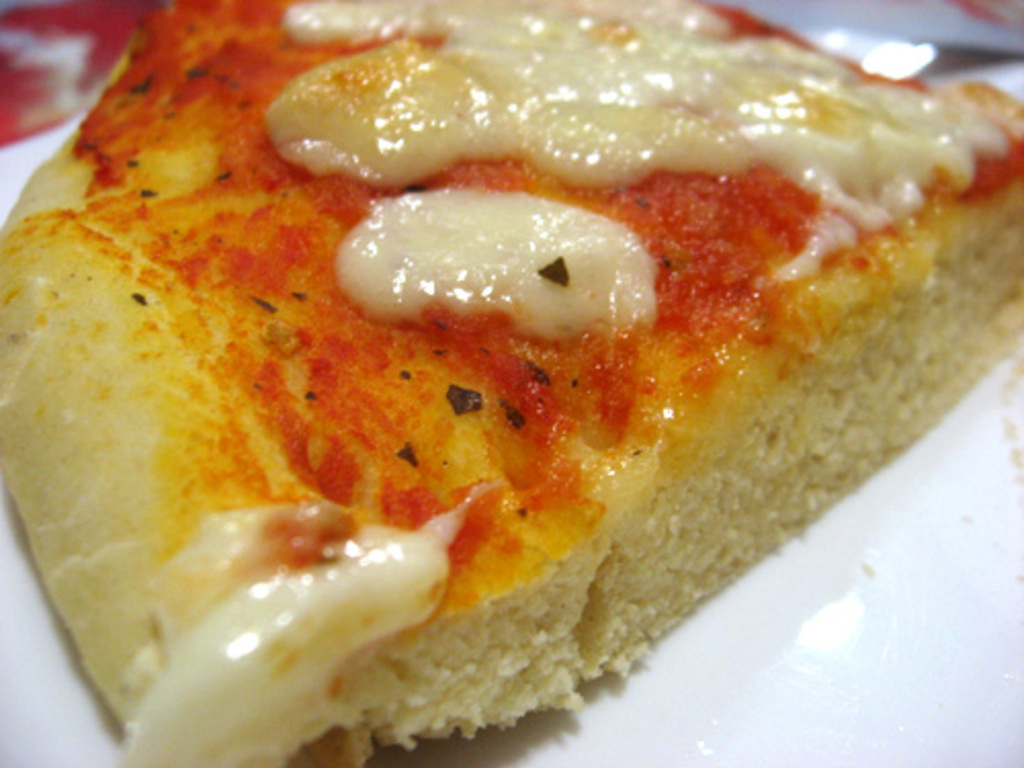Pizza: (0, 0, 991, 768)
